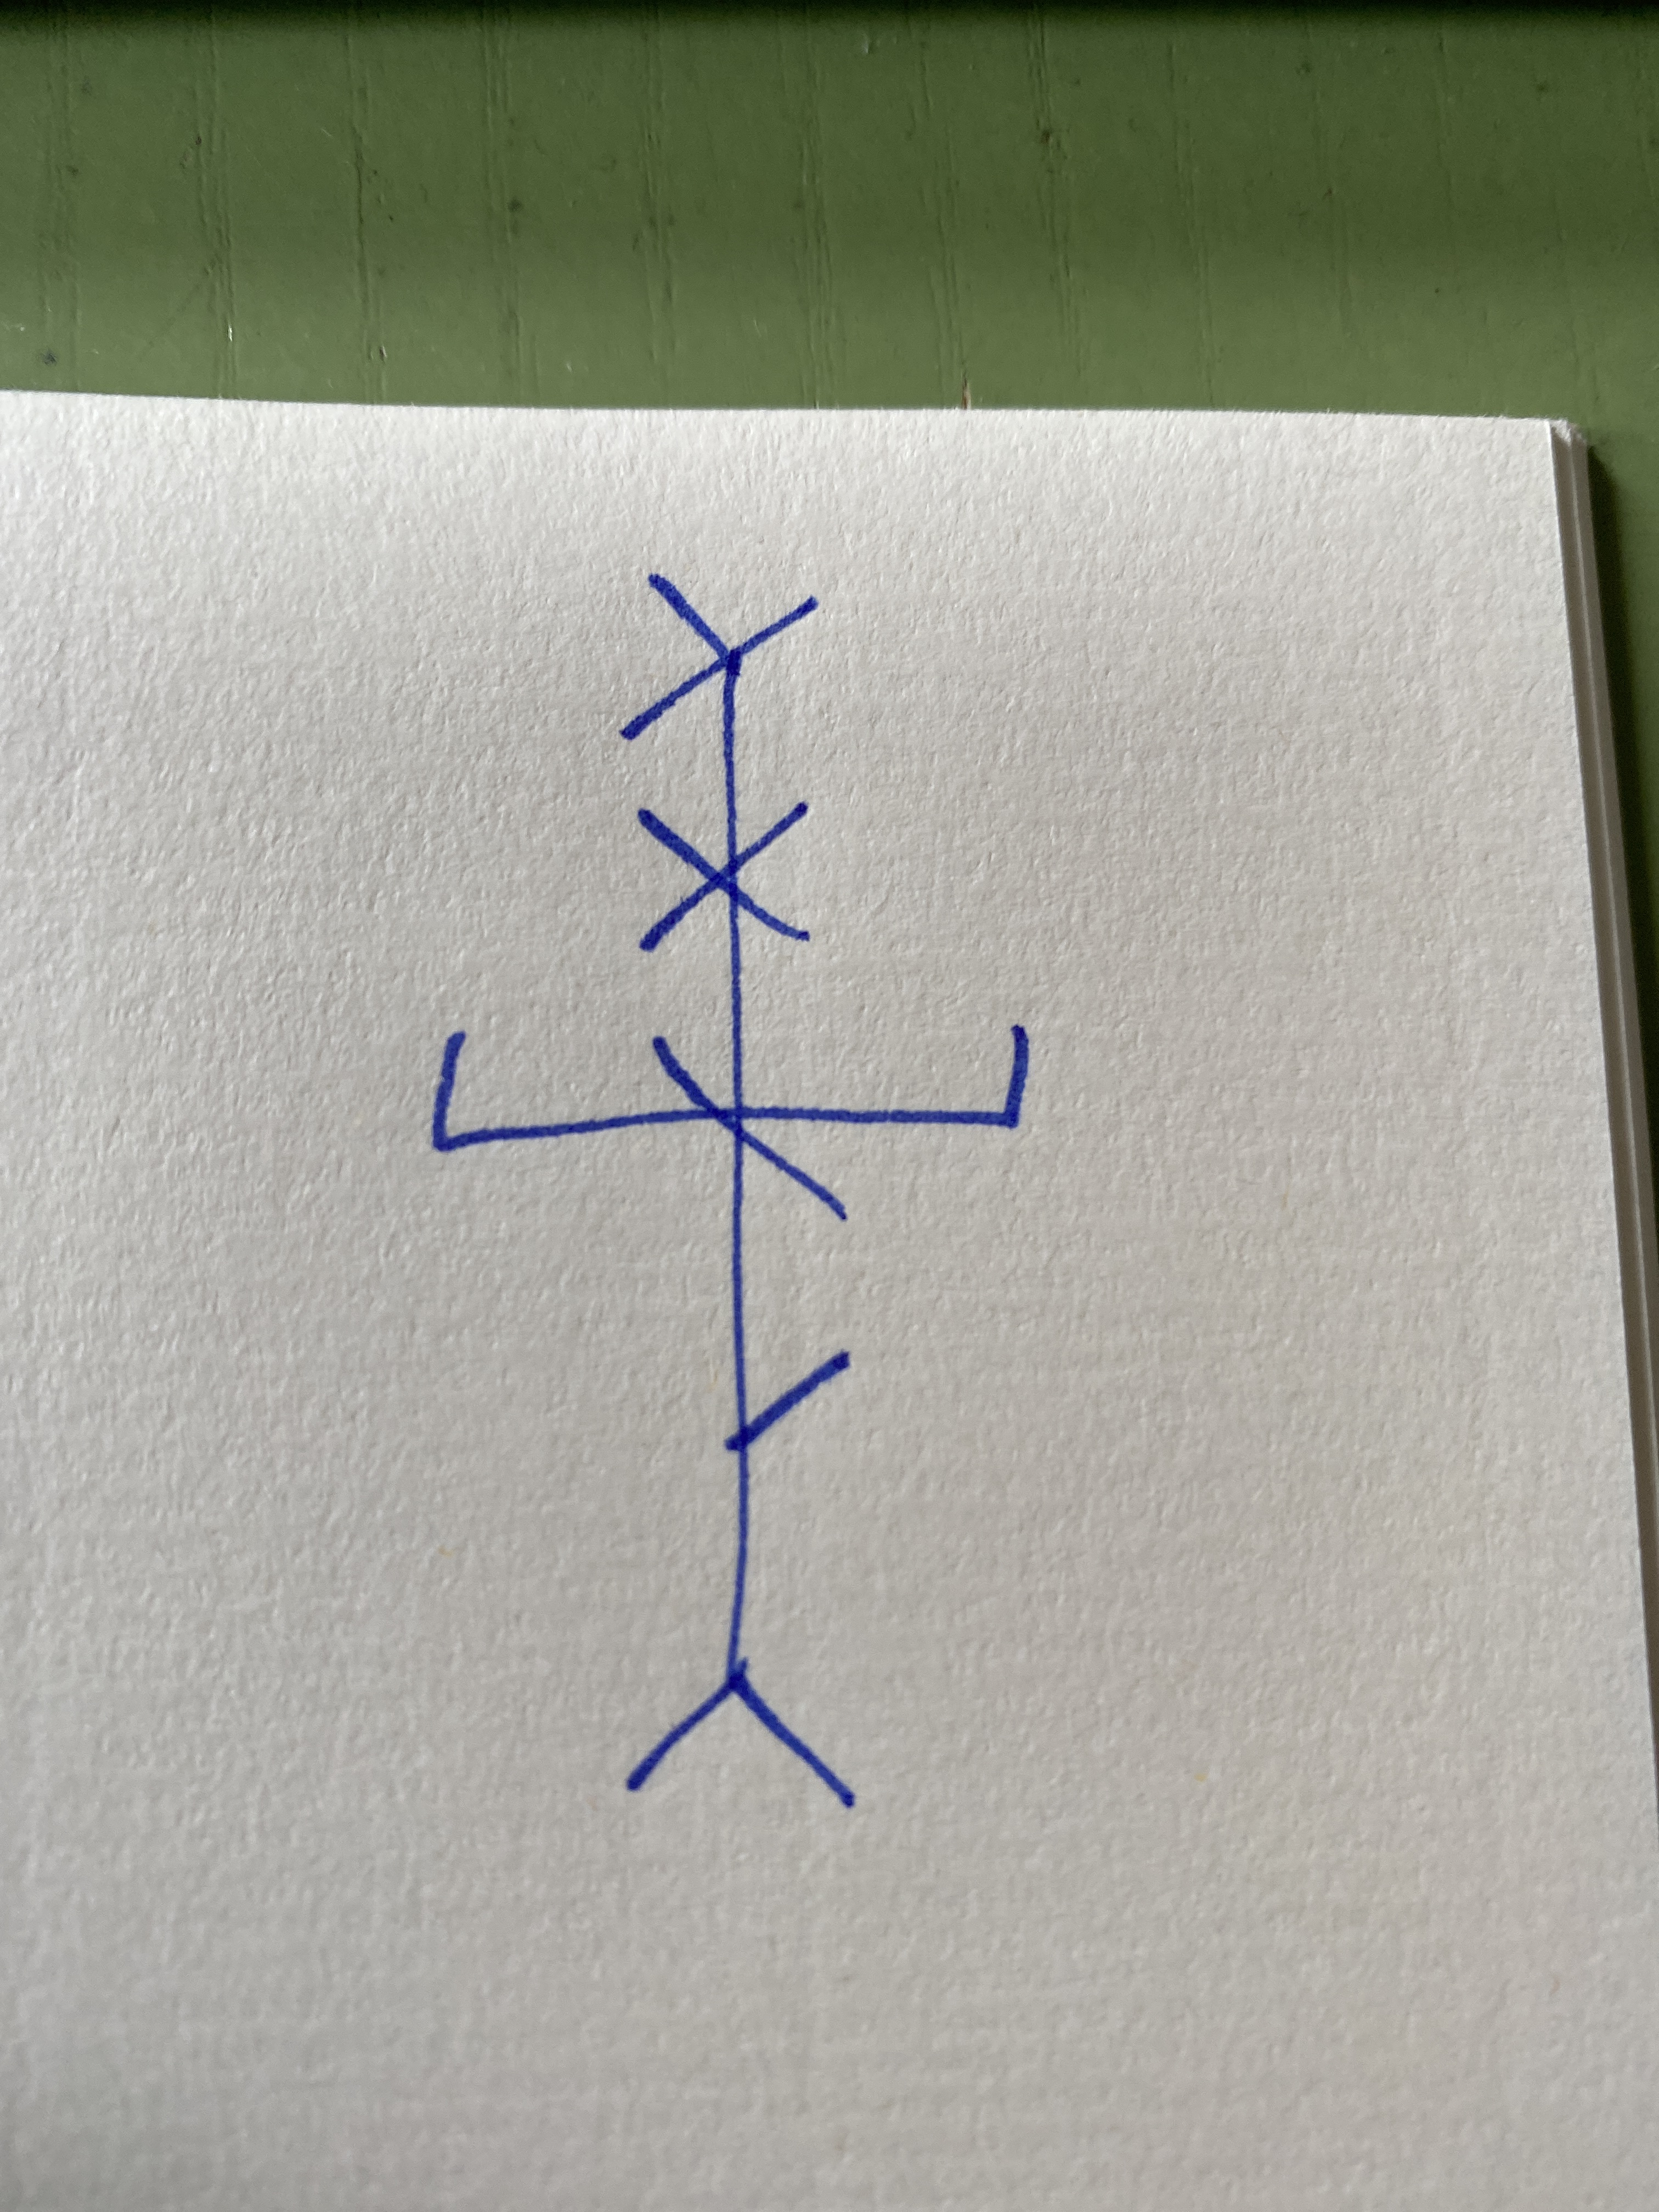Bar: (620, 575, 857, 1811)
Barcode: (429, 573, 1033, 1810)
End: (744, 1022, 1032, 1129)
Start: (429, 1031, 647, 1153)
